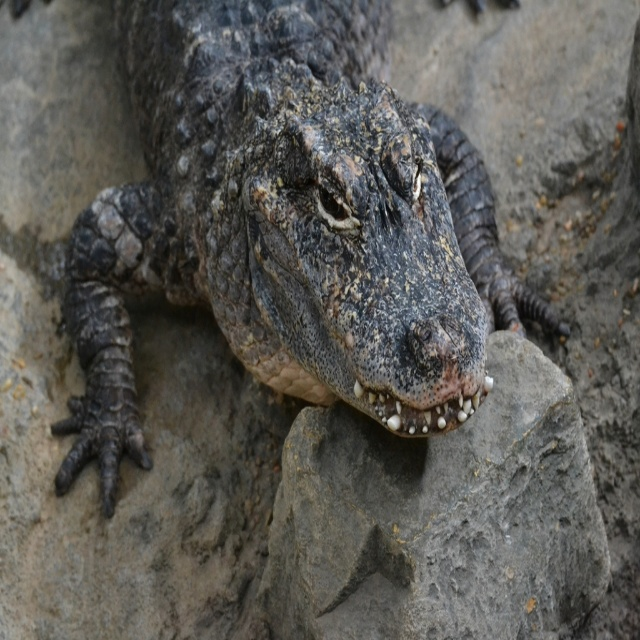Crocodile: (1, 0, 570, 517)
